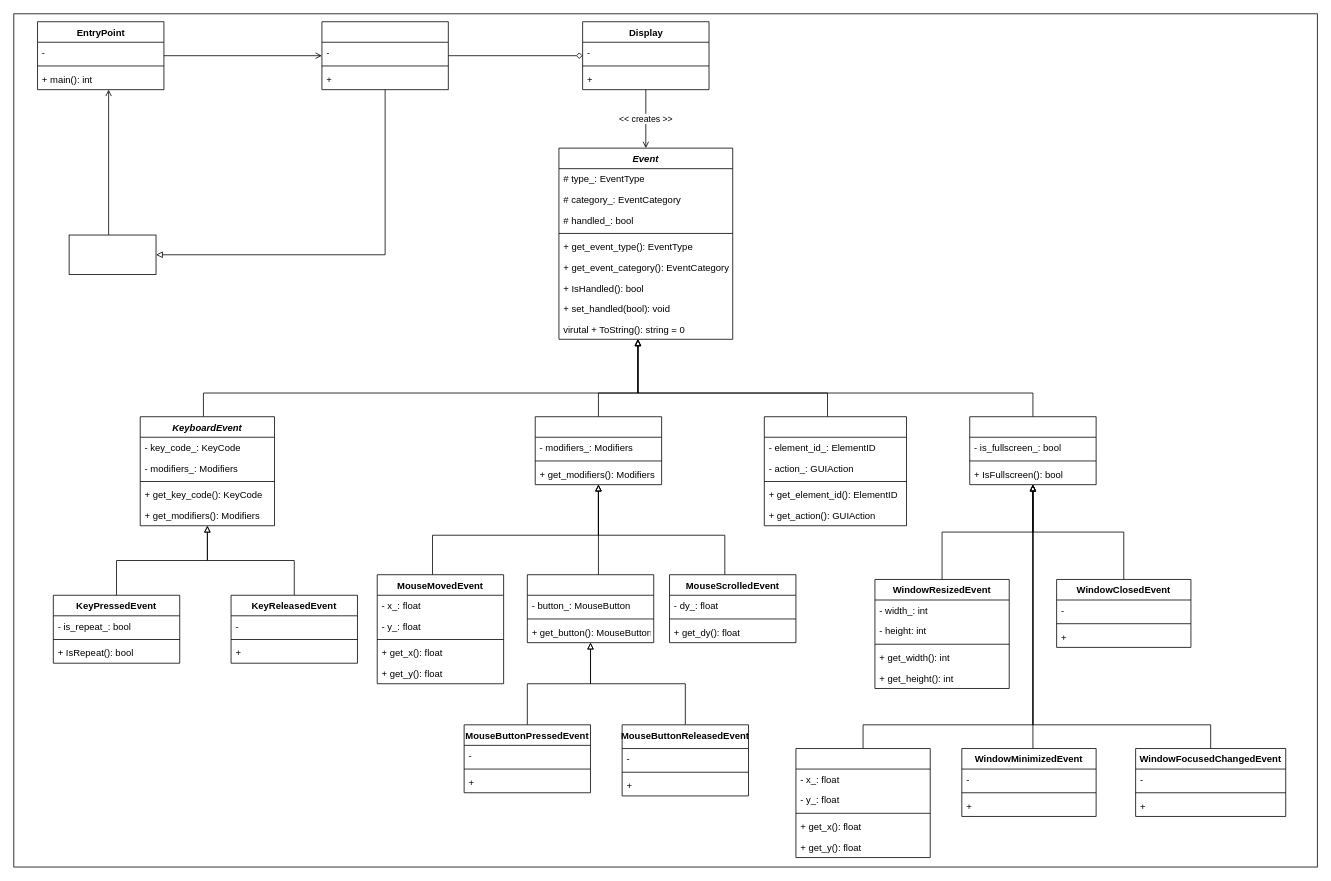
Image size: 1331x881. Some labels were removed from this diagram. The box of each missing label's shape, as (x1, y1, x2, y2) in pixels:
Application: (321, 21, 448, 90)
Client: (68, 234, 156, 275)
GUIEvent: (764, 416, 907, 526)
MouseButtonEvent: (527, 574, 654, 643)
MouseEvent: (534, 416, 662, 485)
WindowEvent: (969, 416, 1096, 485)
WindowMovedEvent: (795, 748, 930, 858)
